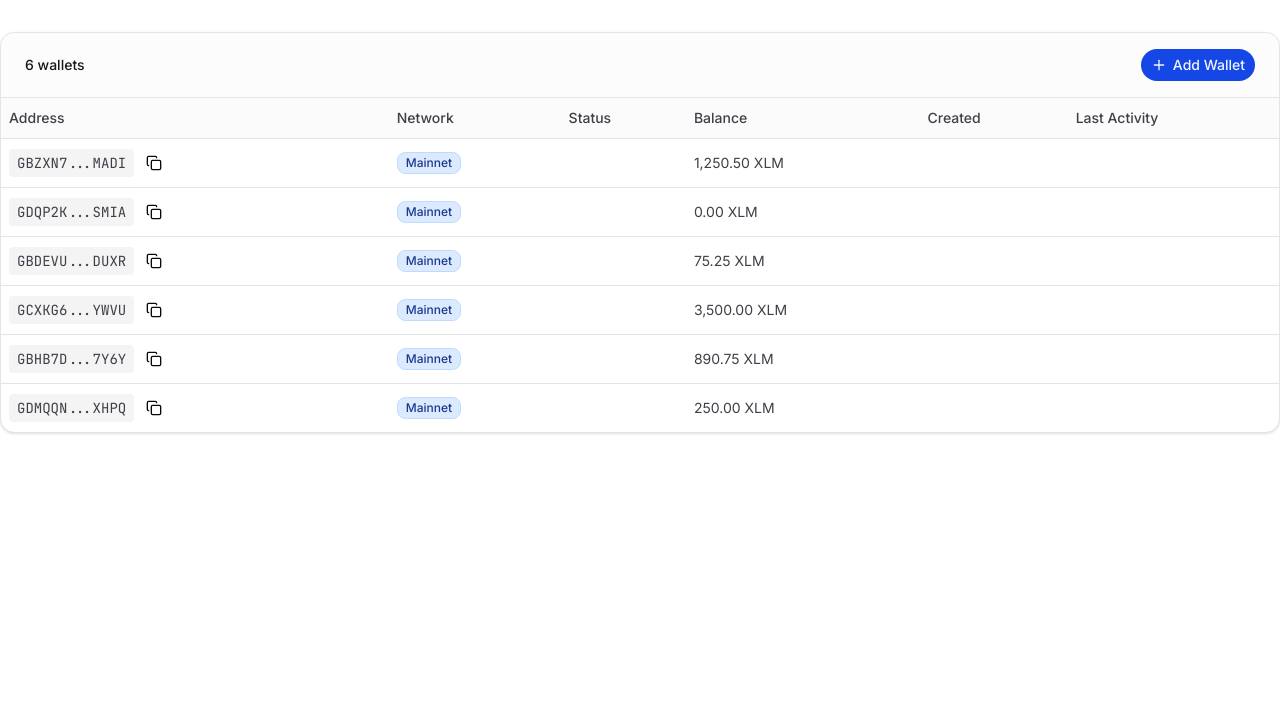
Test: WalletsPage (/demo/dashboard/wallets) › Add Wallet modal › opens AddWalletModal when the Add Wallet button is clicked
Expected: the table is shown, [1,98,1279,432]
Click the button "Add Wallet" at (1198, 65), box [1141,49,1255,81]
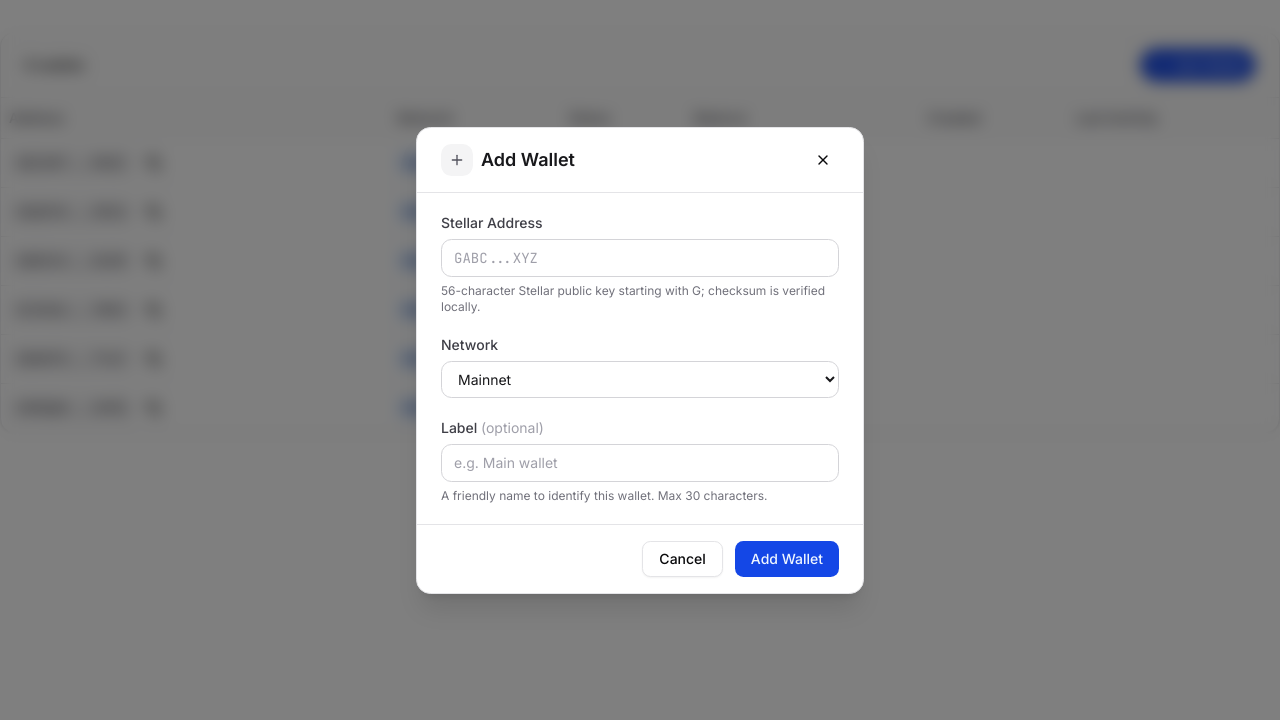
Expected: the dialog is shown
